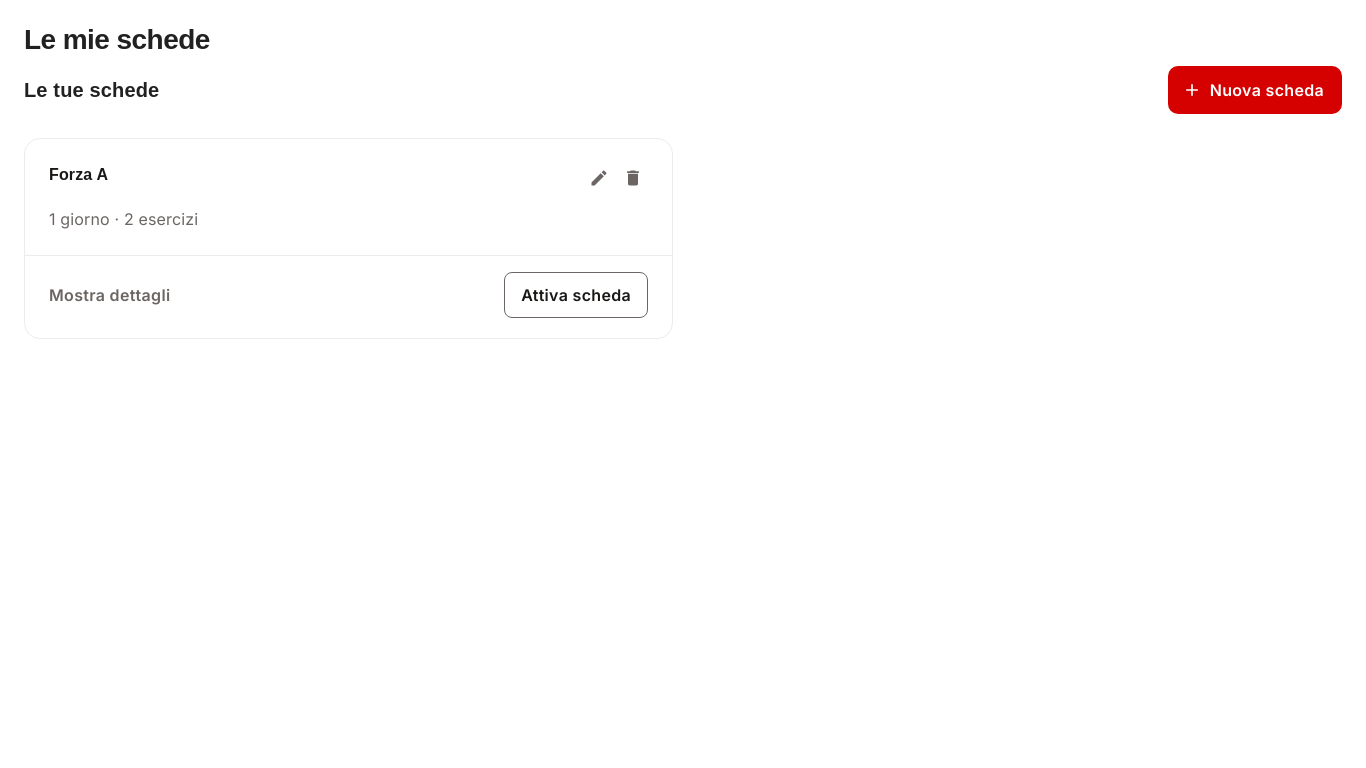
Test: dialogo di eliminazione di una scheda › dice sempre che lo storico resta
What coordinates should you click on to do the following:
click the button with test id "DeleteIcon"
I would click on:
 (633, 178)
Its box is [618, 164, 648, 194].
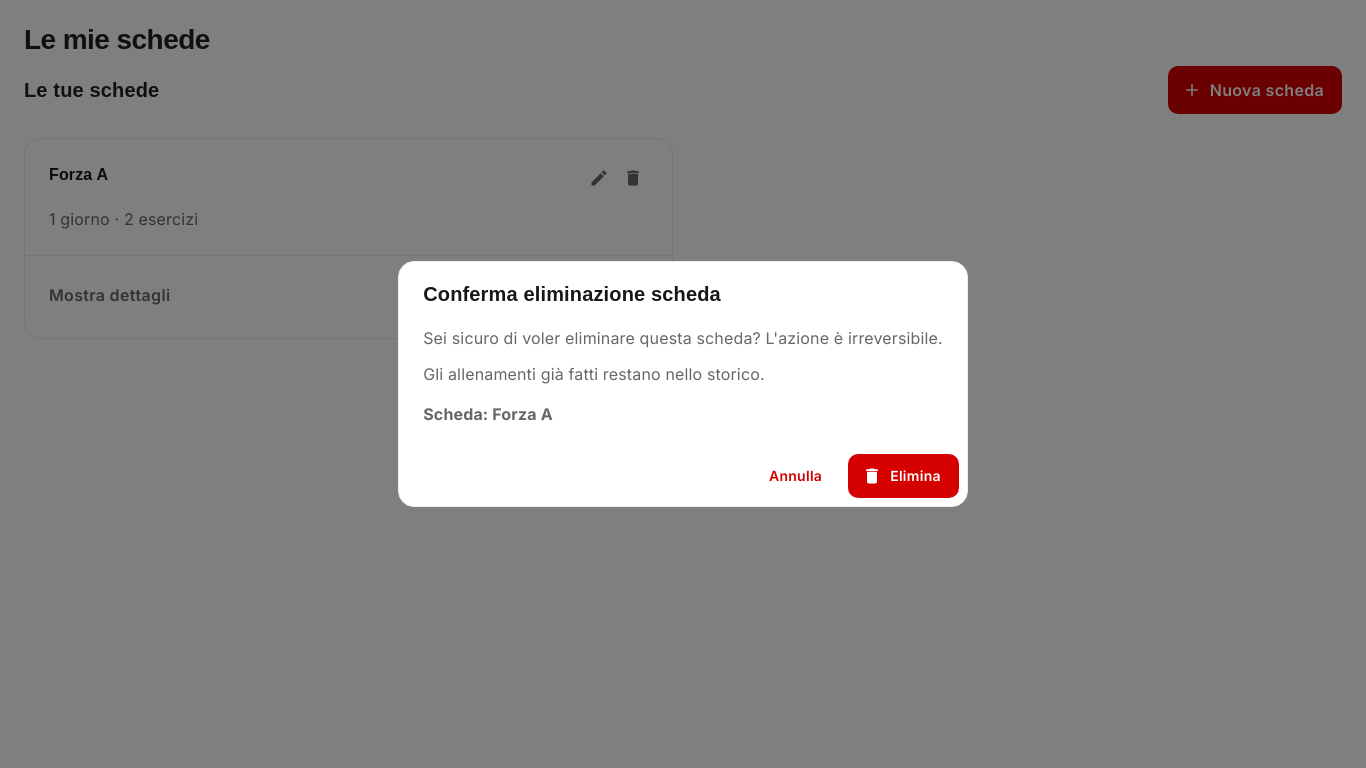
Result: the text "Gli allenamenti già fatti restano nello storico." is shown at [423, 364, 765, 384]
